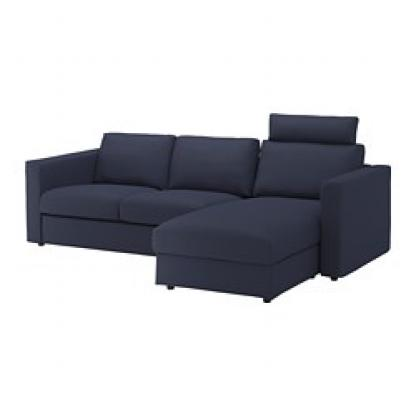Sofa: (15, 93, 398, 320)
